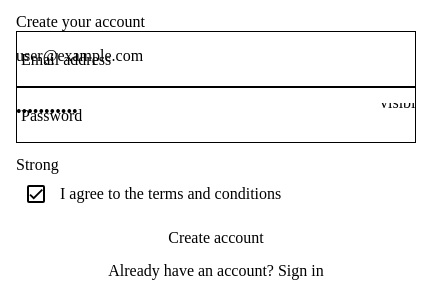
Scenario: RegistrationFormComponent › should show success message after register() resolves
The width and height of the screenshot is (433, 297).
Click the button "Create account".
click(216, 238)  # box [16,214,416,262]
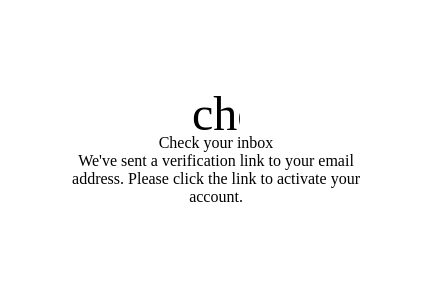
Result: the element with test id "reg-success" is shown at [16,86,416,206]
